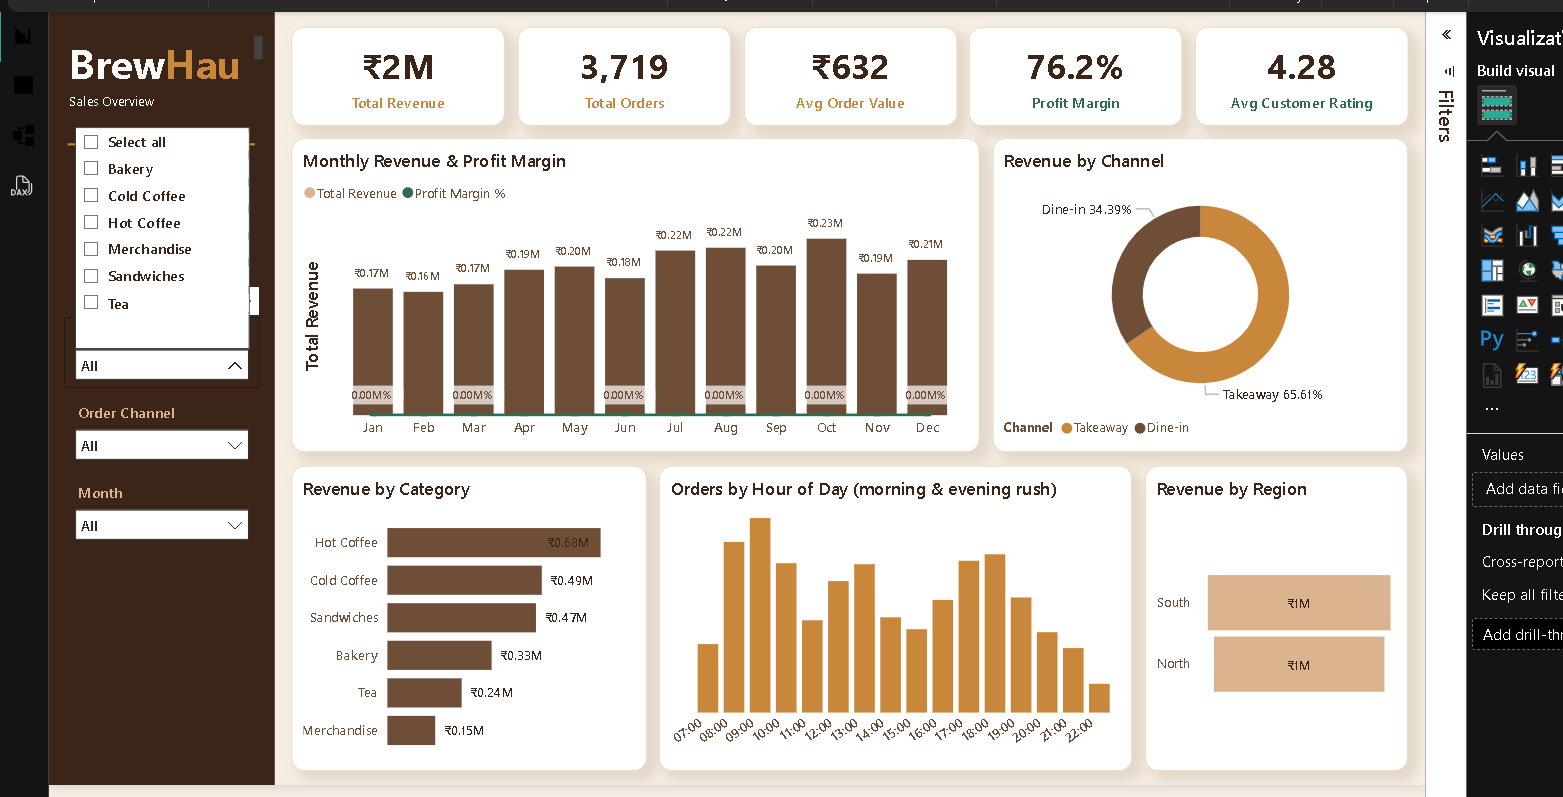

The page's visual inventory and layout, read from the dashboard file:
{"tool":"powerbi","page":{"name":"Sales Overview","canvas":[1280,720],"ordinal":0},"visuals":[{"type":"shape","box":[0,0,210,720],"z":1000},{"type":"textbox","box":[14,18,190,56],"z":2000},{"type":"textbox","box":[14,70,190,46],"z":3000},{"type":"shape","box":[18,122,174,2],"z":4000},{"type":"slicer","fields":{"Values":["Stores.City"]},"box":[14,136,182,66],"z":5000},{"type":"slicer","fields":{"Values":["Stores.Store Type"]},"box":[14,210,182,66],"z":6000},{"type":"slicer","fields":{"Values":["Products.Category"]},"box":[14,284,182,66],"z":7000},{"type":"slicer","fields":{"Values":["Orders.Channel"]},"box":[14,358,182,66],"z":8000},{"type":"slicer","fields":{"Values":["Calendar.Month"]},"box":[14,432,182,66],"z":9000},{"type":"textbox","box":[14,660,190,48],"z":10000},{"type":"card","fields":{"Values":["Orders.Total Revenue"]},"box":[226,14,198,92],"z":11000},{"type":"card","fields":{"Values":["Orders.Total Orders"]},"box":[436,14,198,92],"z":12000},{"type":"card","fields":{"Values":["Orders.Avg Order Value"]},"box":[646,14,198,92],"z":13000},{"type":"card","fields":{"Values":["Orders.Profit Margin %"]},"box":[856,14,198,92],"z":14000},{"type":"card","fields":{"Values":["Orders.Avg Rating"]},"box":[1066,14,198,92],"z":15000},{"type":"lineClusteredColumnComboChart","title":"Monthly Revenue & Profit Margin","fields":{"Category":["Calendar.Month"],"Y":["Orders.Total Revenue"],"Y2":["Orders.Profit Margin %"]},"box":[226,118,640,292],"z":16000},{"type":"donutChart","title":"Revenue by Channel","fields":{"Category":["Orders.Channel"],"Y":["Orders.Total Revenue"]},"box":[878,118,386,292],"z":17000},{"type":"clusteredBarChart","title":"Revenue by Category","fields":{"Category":["Products.Category"],"Y":["Orders.Total Revenue"]},"box":[226,422,330,284],"z":18000},{"type":"clusteredColumnChart","title":"Orders by Hour of Day  (morning & evening rush)","fields":{"Category":["Orders.Hour Label"],"Y":["Orders.Total Orders"]},"box":[568,422,440,284],"z":19000},{"type":"funnel","title":"Revenue by Region","fields":{"Category":["Stores.Region"],"Y":["Orders.Total Revenue"]},"box":[1020,422,244,284],"z":20000}]}

Visuals, with their boxes on the page's 1280x720 design canvas (x1, y1, x2, y2). These are canvas units, not pixel positions in the 1563x797 screenshot, which may show the page scaled, cropped or inside an application window:
shape: box(0, 0, 210, 720)
textbox: box(14, 18, 204, 74)
textbox: box(14, 70, 204, 116)
shape: box(18, 122, 192, 124)
slicer - Stores.City: box(14, 136, 196, 202)
slicer - Stores.Store Type: box(14, 210, 196, 276)
slicer - Products.Category: box(14, 284, 196, 350)
slicer - Orders.Channel: box(14, 358, 196, 424)
slicer - Calendar.Month: box(14, 432, 196, 498)
textbox: box(14, 660, 204, 708)
card - Orders.Total Revenue: box(226, 14, 424, 106)
card - Orders.Total Orders: box(436, 14, 634, 106)
card - Orders.Avg Order Value: box(646, 14, 844, 106)
card - Orders.Profit Margin %: box(856, 14, 1054, 106)
card - Orders.Avg Rating: box(1066, 14, 1264, 106)
"Monthly Revenue & Profit Margin" lineClusteredColumnComboChart: box(226, 118, 866, 410)
"Revenue by Channel" donutChart: box(878, 118, 1264, 410)
"Revenue by Category" clusteredBarChart: box(226, 422, 556, 706)
"Orders by Hour of Day  (morning & evening rush)" clusteredColumnChart: box(568, 422, 1008, 706)
"Revenue by Region" funnel: box(1020, 422, 1264, 706)
